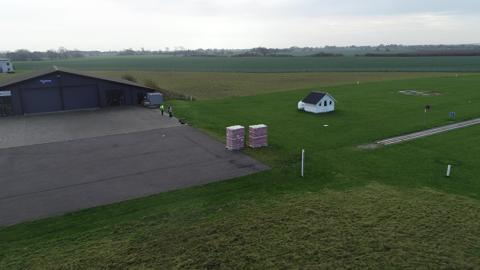RockwoolPallet: (249, 125, 269, 149)
